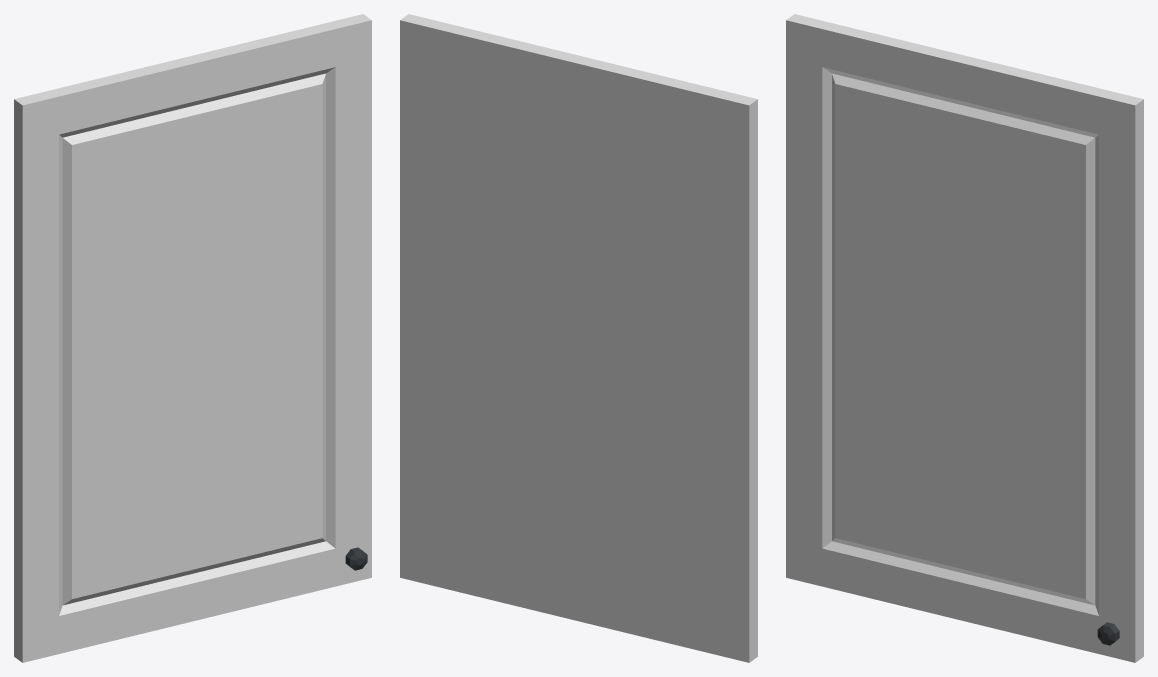
The model's file is Door3_C1_12.fbx.
3 renders of one model, left to right at view 1: azimuth 30°, elevation 25°; view 2: azimuth 150°, elevation 25°; view 3: azimuth 330°, elevation 25°, orthographic.
Visible parts, largest first — view 1: Door3_C1_12; view 2: Door3_C1_12; view 3: Door3_C1_12.
Boxes of the visible parts, bbox=[...] form: Door3_C1_12: bbox=[14, 14, 371, 662]; Door3_C1_12: bbox=[400, 14, 757, 662]; Door3_C1_12: bbox=[786, 14, 1143, 662].
Bounding box in the file's own units: 59 × 90 × 5.19.
